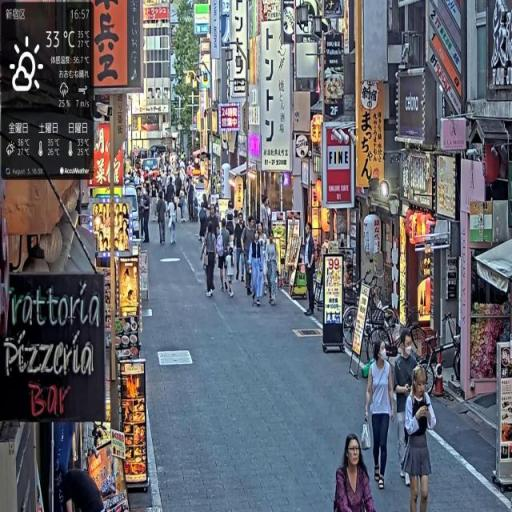person: (403, 367, 437, 512), (365, 340, 395, 497), (393, 332, 419, 487), (333, 430, 377, 512), (301, 224, 319, 317), (203, 220, 219, 299), (265, 228, 280, 307), (243, 213, 257, 297), (234, 212, 247, 288), (157, 194, 169, 245)
